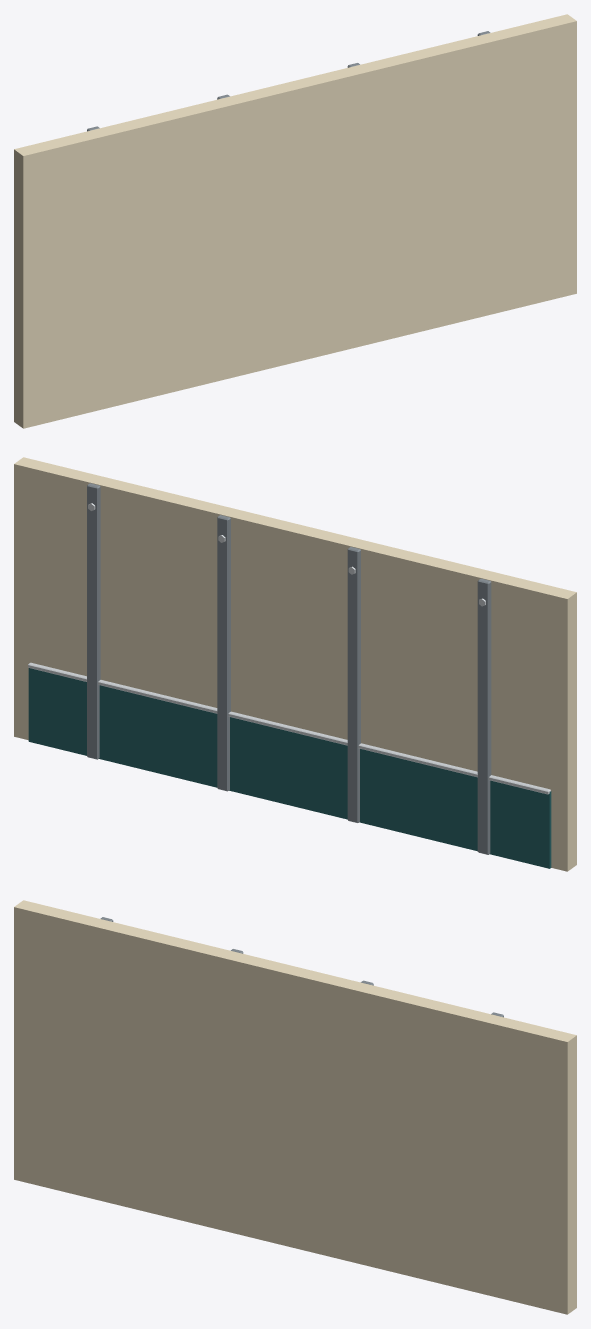
The model's file is Kit_WallFront.fbx.
The picture shows the model from 3 angles, top to bottom: view 1: azimuth 30°, elevation 25°; view 2: azimuth 150°, elevation 25°; view 3: azimuth 330°, elevation 25°; orthographic projection.
Parts seen in each view (by area): view 1: FrontWall; view 2: FrontWall, Decor; view 3: FrontWall.
Boxes of the visible parts, x1,y1,x2,y2 form: FrontWall: (14,14,576,428); FrontWall: (14,457,576,871); Decor: (28,483,551,868); FrontWall: (14,900,576,1314).
Bounding box in the file's own units: 34 × 16 × 1.45.
